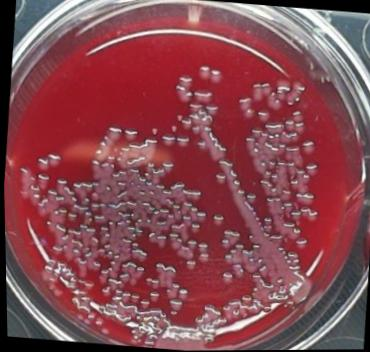asalmonicida: (88, 122, 122, 170), (212, 157, 246, 204), (196, 126, 227, 161), (170, 69, 194, 105), (150, 259, 176, 288), (281, 78, 305, 108), (51, 176, 75, 205), (33, 148, 62, 170), (247, 79, 270, 102), (69, 178, 91, 199), (218, 227, 238, 250), (139, 136, 157, 161), (235, 96, 254, 119), (191, 86, 213, 104), (119, 124, 139, 143), (297, 205, 318, 223), (143, 232, 165, 249), (261, 118, 283, 135), (292, 191, 315, 206), (301, 158, 319, 177), (263, 92, 280, 111), (182, 187, 202, 203), (165, 296, 181, 316), (298, 139, 315, 156), (272, 79, 290, 95), (127, 247, 145, 263), (173, 132, 190, 148), (253, 107, 270, 123), (217, 269, 233, 286), (202, 100, 219, 116), (286, 108, 304, 123), (33, 171, 48, 189), (158, 158, 174, 174), (207, 67, 222, 84), (159, 131, 174, 148), (211, 170, 227, 185), (196, 63, 211, 78), (84, 258, 100, 272), (141, 276, 158, 289), (210, 212, 224, 227), (292, 122, 306, 137), (248, 124, 261, 139), (89, 211, 104, 224), (194, 240, 206, 256), (175, 286, 187, 302), (243, 192, 257, 205), (195, 251, 208, 264), (187, 220, 200, 233), (182, 257, 194, 271), (146, 289, 158, 303), (193, 208, 205, 222), (64, 210, 76, 223), (136, 297, 148, 310), (127, 291, 139, 304), (184, 237, 195, 251), (260, 213, 271, 226)
